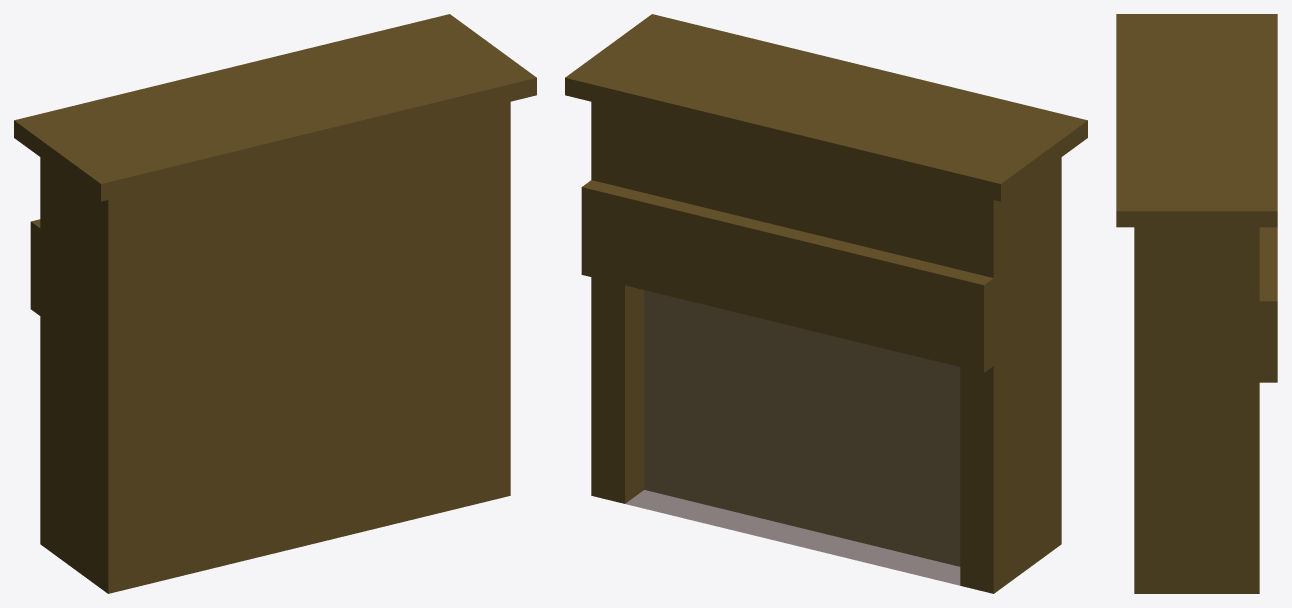
File: obj_piano_2_0.obj
3 views of the same model, side by side, from view 1: azimuth 30°, elevation 25°; view 2: azimuth 150°, elevation 25°; view 3: azimuth 270°, elevation 25° (orthographic). The views are drawn at different scales.
Bounding box in the file's own units: 1.62 × 1.5 × 0.5625.
